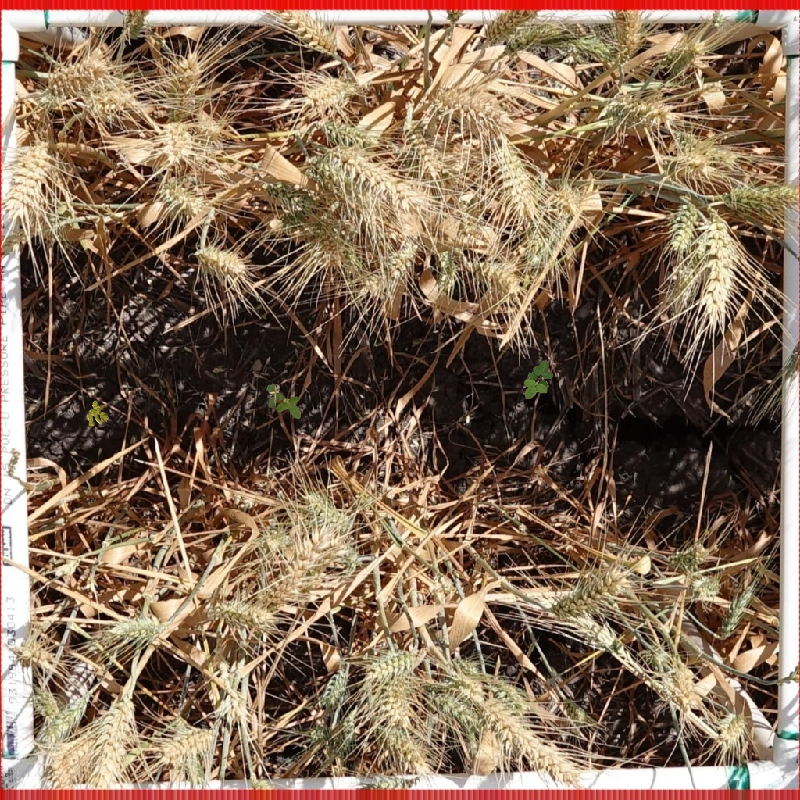spikelet: (480, 697, 582, 786), (333, 146, 429, 214), (267, 529, 341, 602), (565, 611, 647, 676), (547, 564, 634, 620), (698, 212, 740, 326), (90, 692, 137, 787), (1, 139, 53, 221), (436, 81, 512, 132), (648, 643, 704, 710), (492, 140, 540, 218), (365, 238, 419, 300), (599, 89, 675, 132), (205, 592, 277, 636), (714, 576, 762, 641), (41, 50, 110, 95), (37, 688, 91, 745), (429, 683, 487, 735), (162, 49, 205, 117), (671, 128, 739, 171), (155, 173, 215, 221), (403, 114, 448, 178), (284, 8, 344, 56), (158, 721, 217, 766), (84, 73, 139, 120), (193, 238, 250, 283), (103, 608, 167, 648), (726, 177, 796, 213), (48, 731, 93, 787), (524, 216, 571, 267), (380, 668, 418, 731), (301, 487, 353, 532), (299, 70, 356, 111), (663, 255, 700, 318), (475, 253, 523, 300), (365, 643, 421, 682), (659, 32, 709, 75), (305, 218, 348, 268), (318, 116, 380, 148), (563, 29, 618, 65), (665, 198, 700, 253), (454, 190, 488, 245), (156, 118, 196, 164), (666, 537, 713, 573), (712, 708, 750, 751), (316, 665, 352, 709), (684, 569, 723, 605), (551, 179, 585, 219), (433, 246, 461, 294), (255, 519, 292, 555), (194, 112, 226, 143)
weed: (267, 384, 301, 419), (524, 360, 554, 399), (84, 399, 110, 428)
